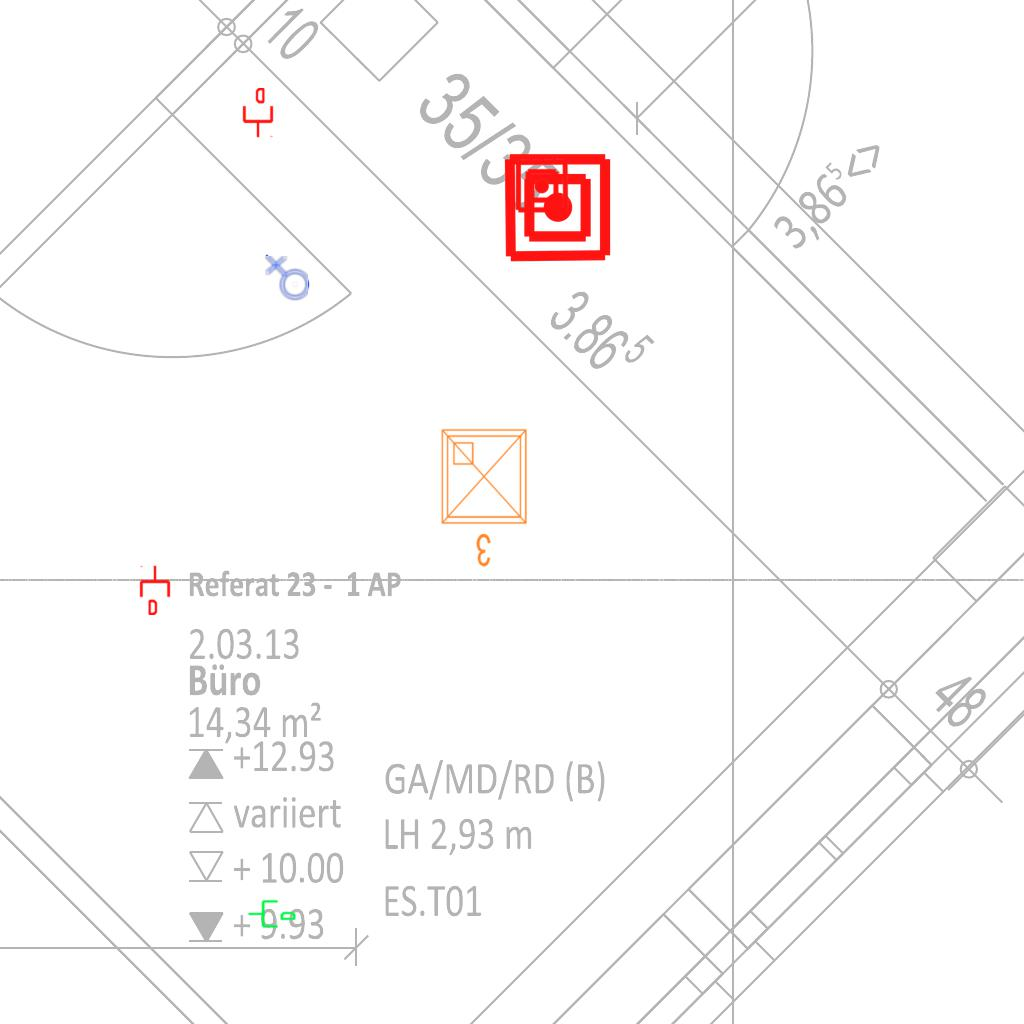Datenanschluss_einfach: (247, 896, 297, 930), (138, 565, 172, 615), (241, 88, 275, 138)
Einbaudownlights_LED_Konferenzraeume: (434, 422, 538, 572)
Elektroanschluss_allgemein_230V_Geraeteanschlussdose_230V: (263, 254, 310, 303)
NAM-Nichtautomatischer_Melder: (501, 151, 614, 264), (514, 158, 570, 214)
